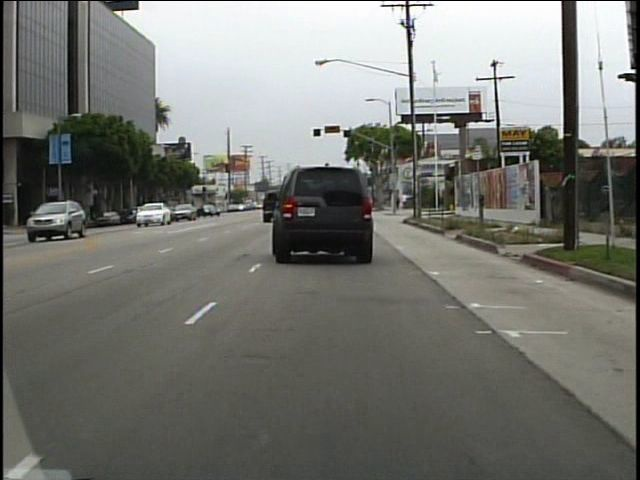person: (401, 189, 409, 211), (394, 193, 401, 212)
